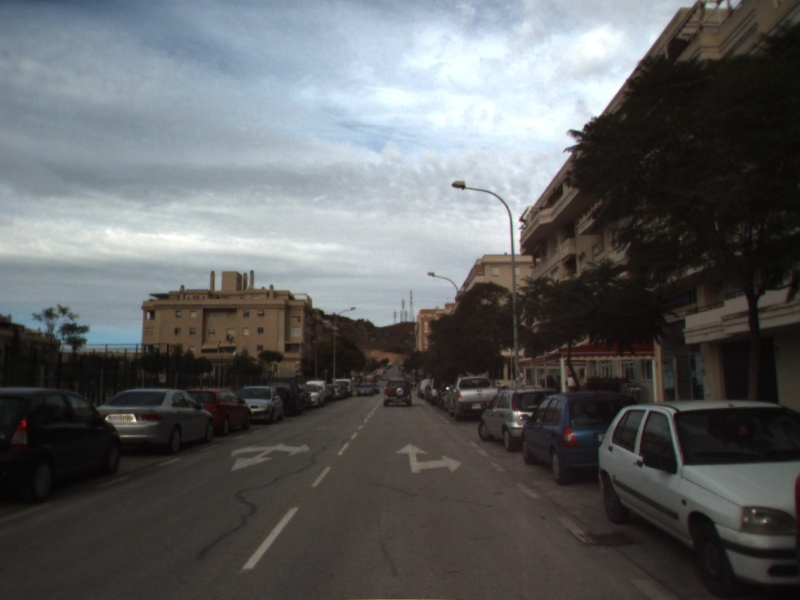STRAIGHT_RIGHT: (394, 441, 464, 475)
